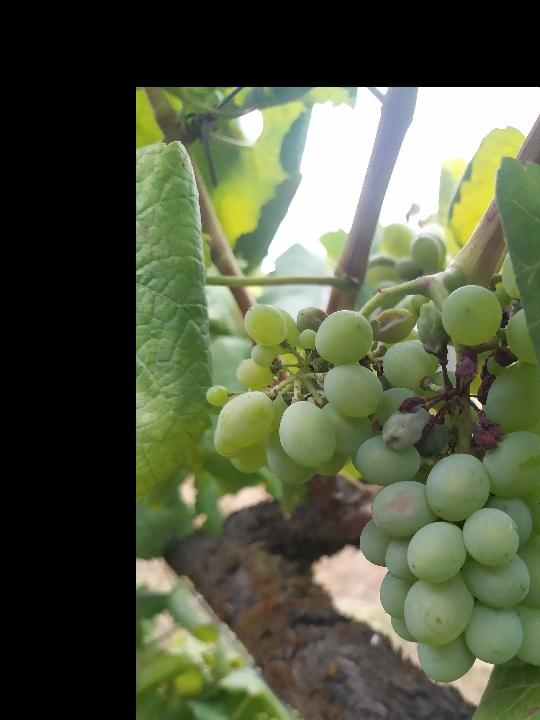grape: (213, 282, 540, 688)
